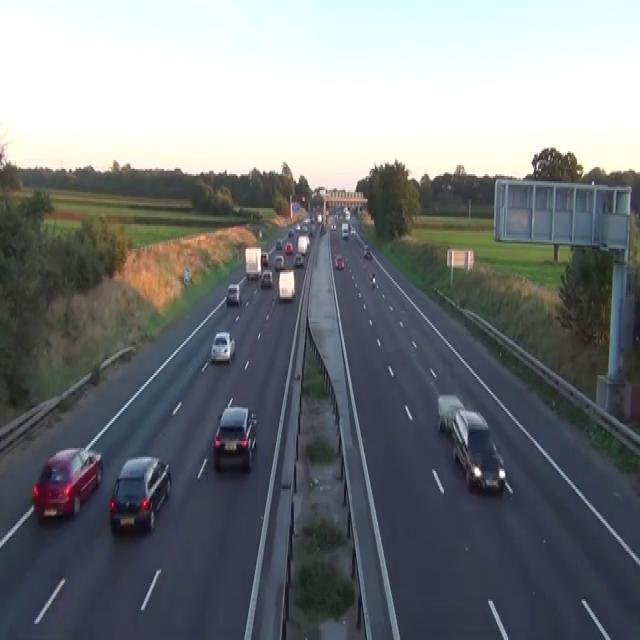Car: (32, 446, 103, 519), (109, 455, 171, 533), (450, 409, 506, 492), (213, 404, 257, 471), (437, 393, 464, 434), (210, 330, 235, 362), (226, 282, 240, 306), (260, 270, 273, 288), (334, 252, 344, 268), (274, 254, 284, 270), (294, 252, 303, 266), (363, 245, 372, 258), (261, 251, 268, 265), (285, 242, 293, 254), (319, 222, 326, 235), (370, 272, 376, 286), (275, 238, 282, 249), (308, 226, 315, 236), (349, 224, 355, 235), (301, 224, 308, 233), (330, 220, 336, 230), (317, 214, 322, 222), (288, 230, 293, 237), (258, 230, 262, 238), (295, 224, 301, 229)
Truck: (244, 247, 261, 281), (278, 270, 295, 300), (297, 235, 309, 254), (341, 222, 349, 238)
